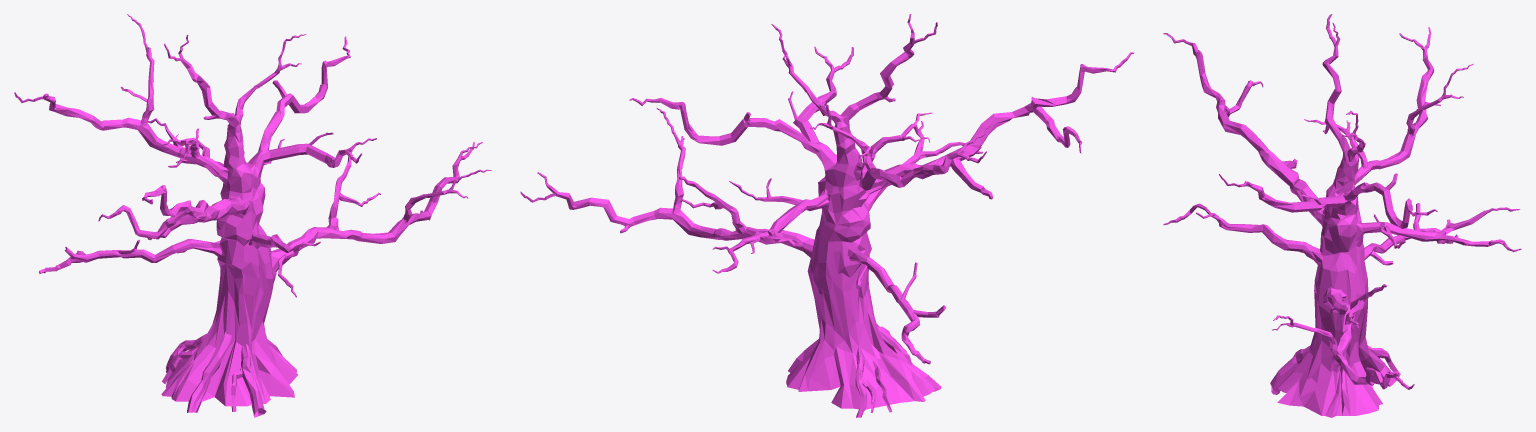
File: SM_Tree_Oak_Big_Dead_Fantasy.fbx
The picture shows the model from 3 angles, left to right: view 1: azimuth 30°, elevation 25°; view 2: azimuth 150°, elevation 25°; view 3: azimuth 270°, elevation 25°; orthographic projection. The views are drawn at different scales.
Visible parts, largest first — view 1: Tree_Oak_Big_Dead_Fantasy; view 2: Tree_Oak_Big_Dead_Fantasy; view 3: Tree_Oak_Big_Dead_Fantasy.
Boxes of the visible parts, x1,y1,x2,y2 form: Tree_Oak_Big_Dead_Fantasy: [14, 14, 491, 417]; Tree_Oak_Big_Dead_Fantasy: [520, 14, 1134, 417]; Tree_Oak_Big_Dead_Fantasy: [1163, 14, 1521, 417].
Size of the model in its own units: 17.82 by 13.84 by 12.74.
